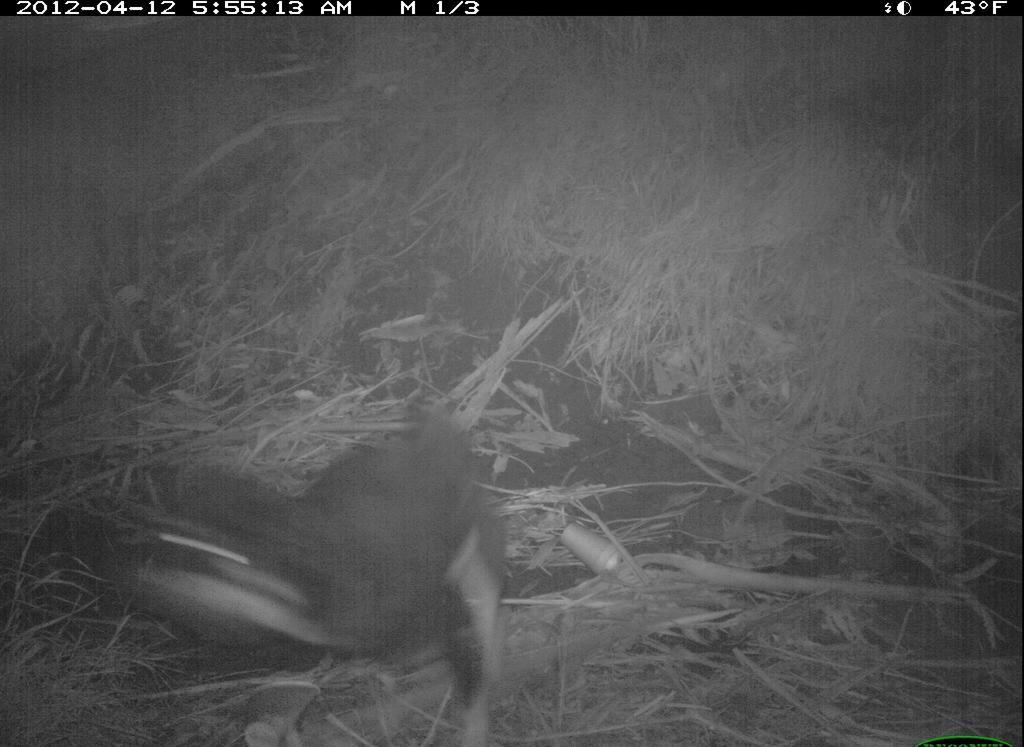dog: (86, 418, 523, 731)
